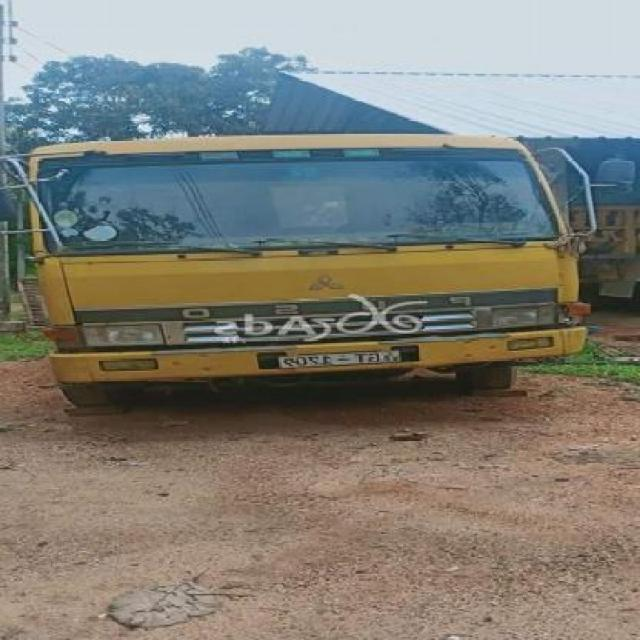truck: (18, 143, 595, 400)
